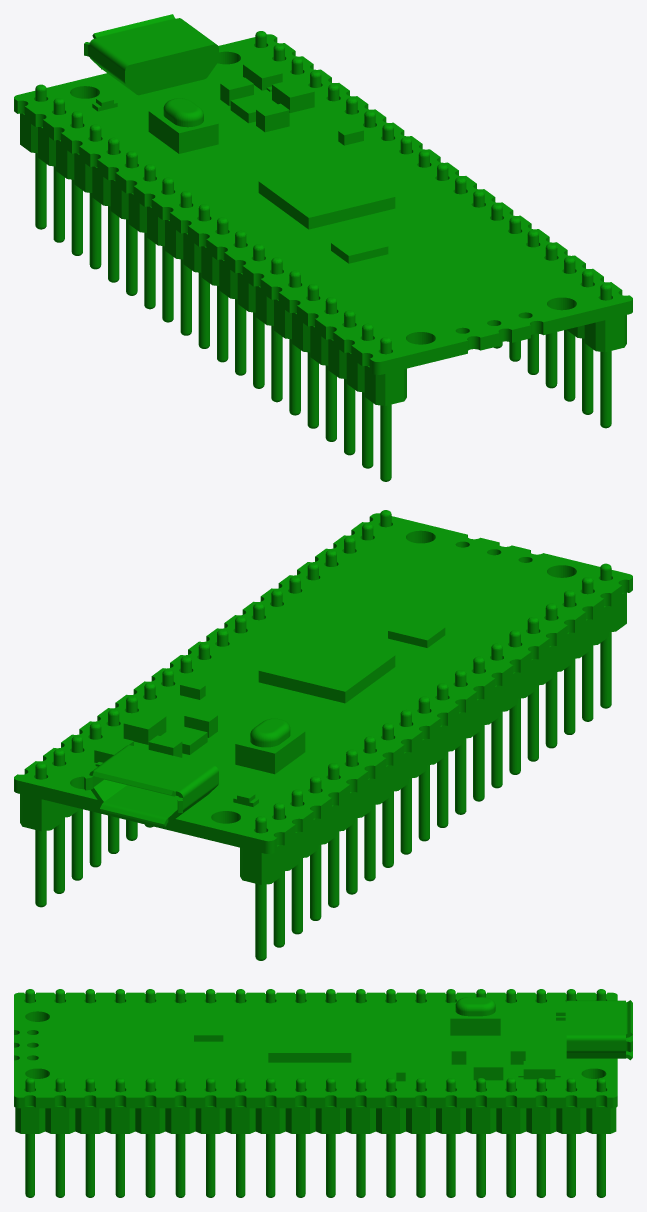
File: pipico.glb
The picture shows the model from 3 angles, top to bottom: view 1: azimuth 30°, elevation 25°; view 2: azimuth 150°, elevation 25°; view 3: azimuth 270°, elevation 25°; orthographic projection. The views are drawn at different scales.
Visible parts, largest first — view 1: world; view 2: world; view 3: world.
Part boxes in pixels (x1,y1,x2,y2): world: [14, 14, 632, 481]; world: [14, 510, 632, 960]; world: [14, 989, 632, 1197].
Bounding box in the file's own units: 0.021 × 0.0127 × 0.0523.
